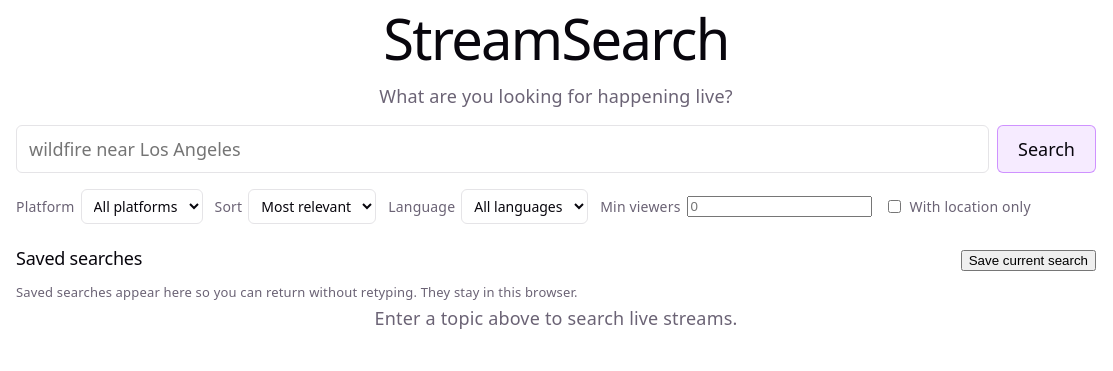
Test: failed search shows the error state
Type "wildfire" into the search field at (502, 149), box [16, 125, 989, 173]
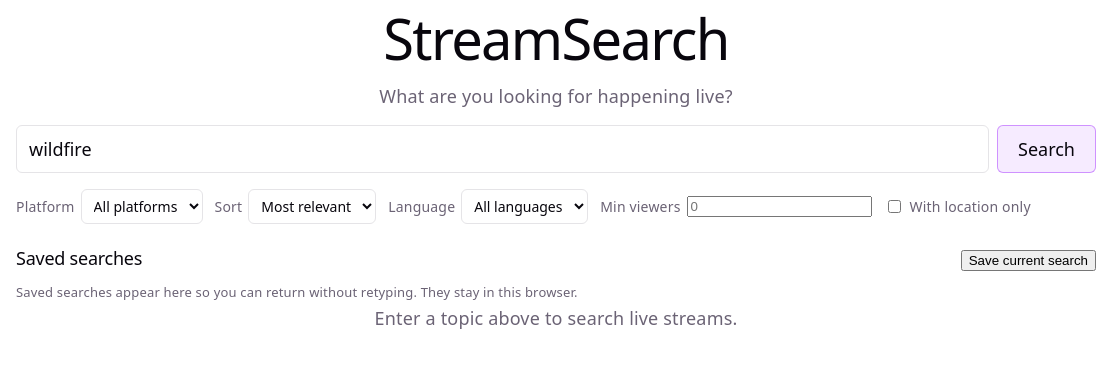
Submit the form, box [16, 125, 1096, 173]
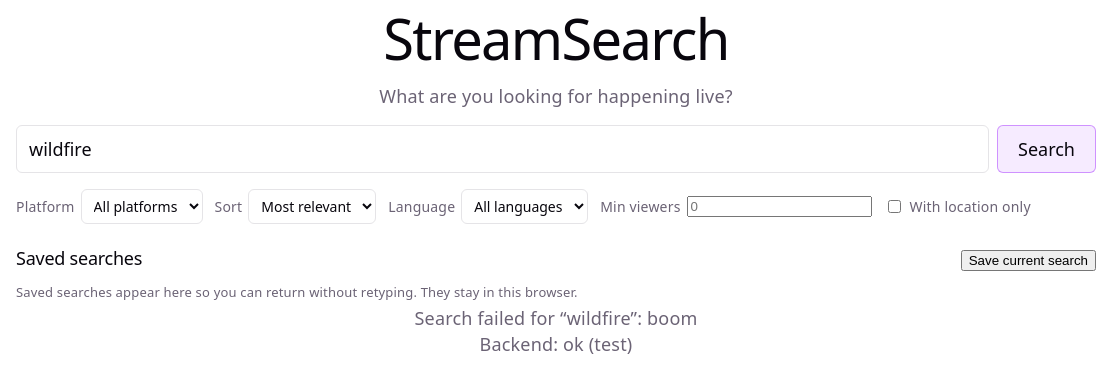
Now the text with test id "search-error" shows "boom", box [647, 306, 698, 330]
